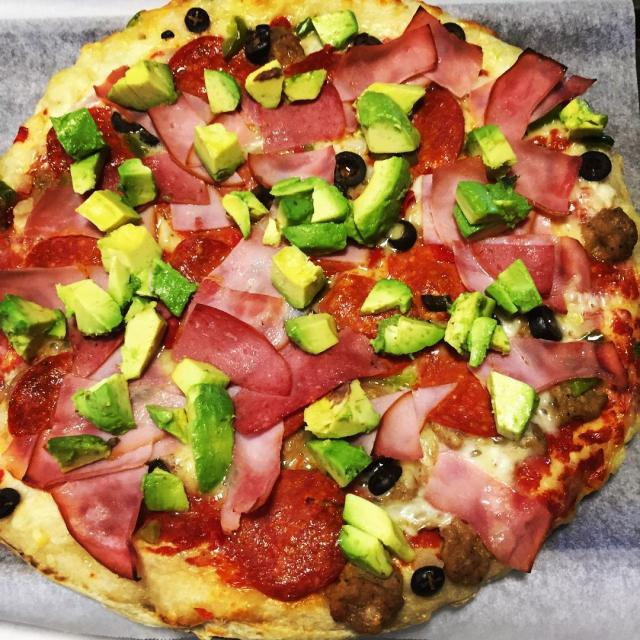black_olives: (578, 121, 616, 184), (112, 108, 163, 146), (523, 301, 565, 346), (333, 145, 372, 187), (246, 21, 277, 64), (406, 561, 442, 596), (383, 216, 414, 252), (368, 460, 402, 492), (419, 286, 450, 314), (184, 8, 206, 37)
pepperoni: (226, 470, 351, 597), (417, 349, 501, 440), (167, 34, 255, 98), (8, 346, 66, 432), (398, 84, 458, 166), (18, 227, 99, 273), (174, 226, 224, 278)
pizza: (0, 0, 640, 640)
